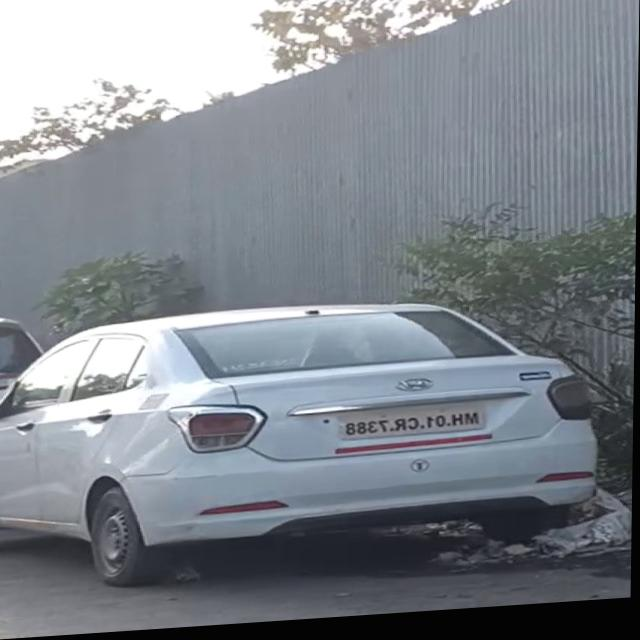plate: (340, 414, 488, 445)
